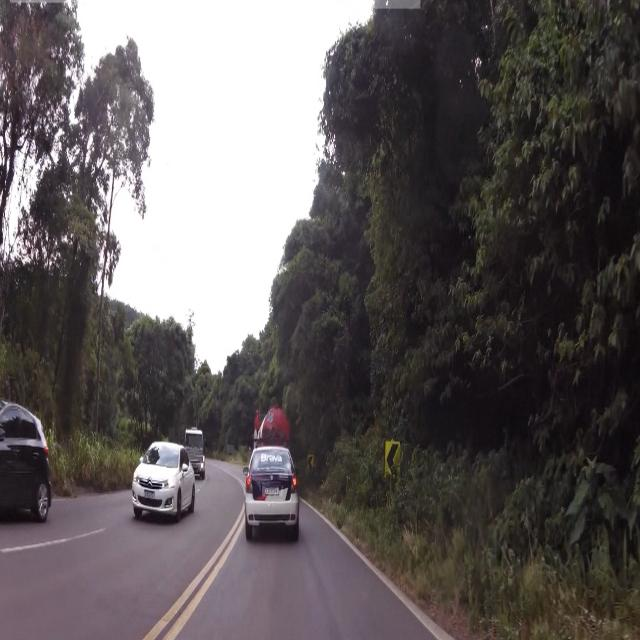Del: (384, 440, 404, 481)
